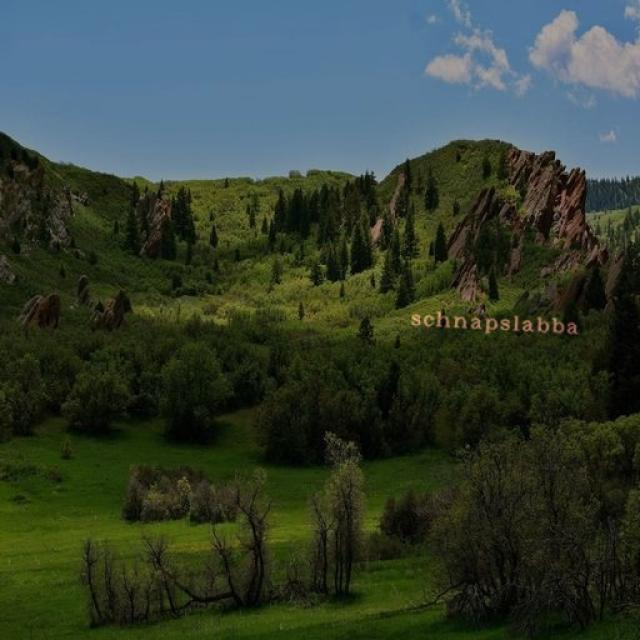watermark: (403, 307, 594, 336)
